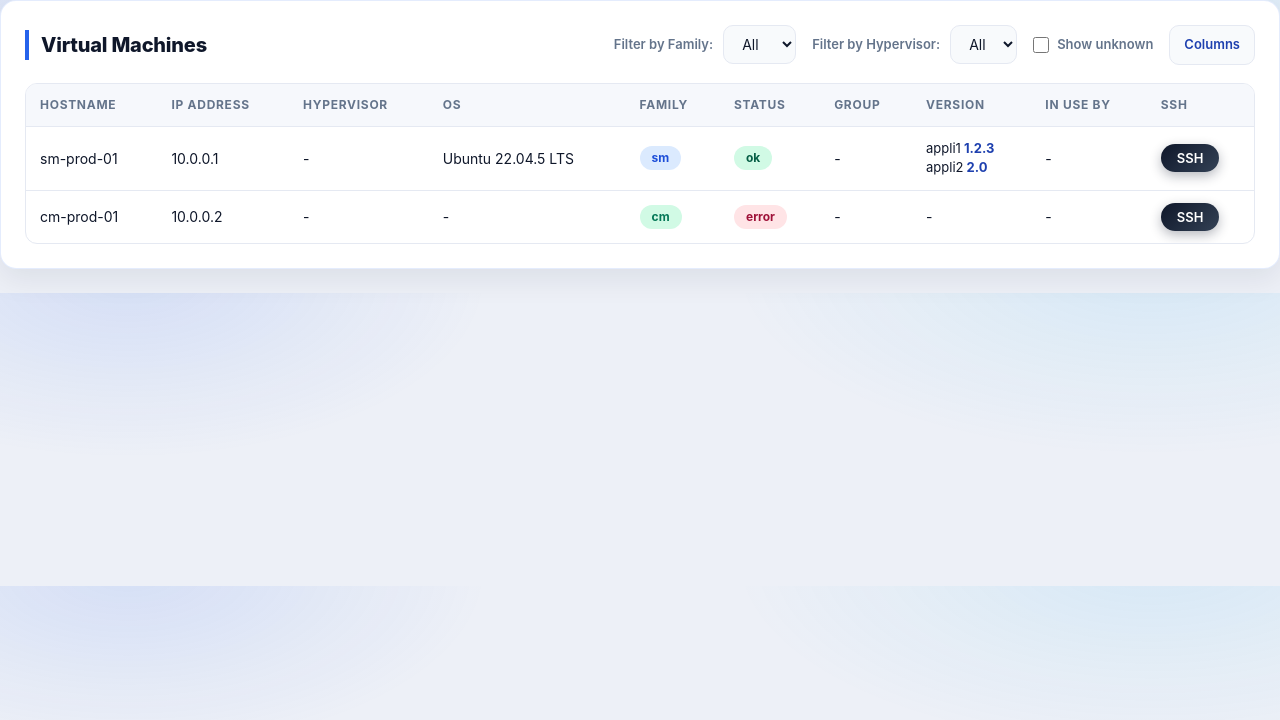
Test case: VMTable › affiche les VMs et filtre par famille
Expected: the text "sm-prod-01" is shown, [26,126,157,190]
Expected: the text "cm-prod-01" is shown, [26,190,157,242]
Select "SM" in the dropdown labelled "Filter by Family:" at coordinates (760, 45), box [723,25,796,64]
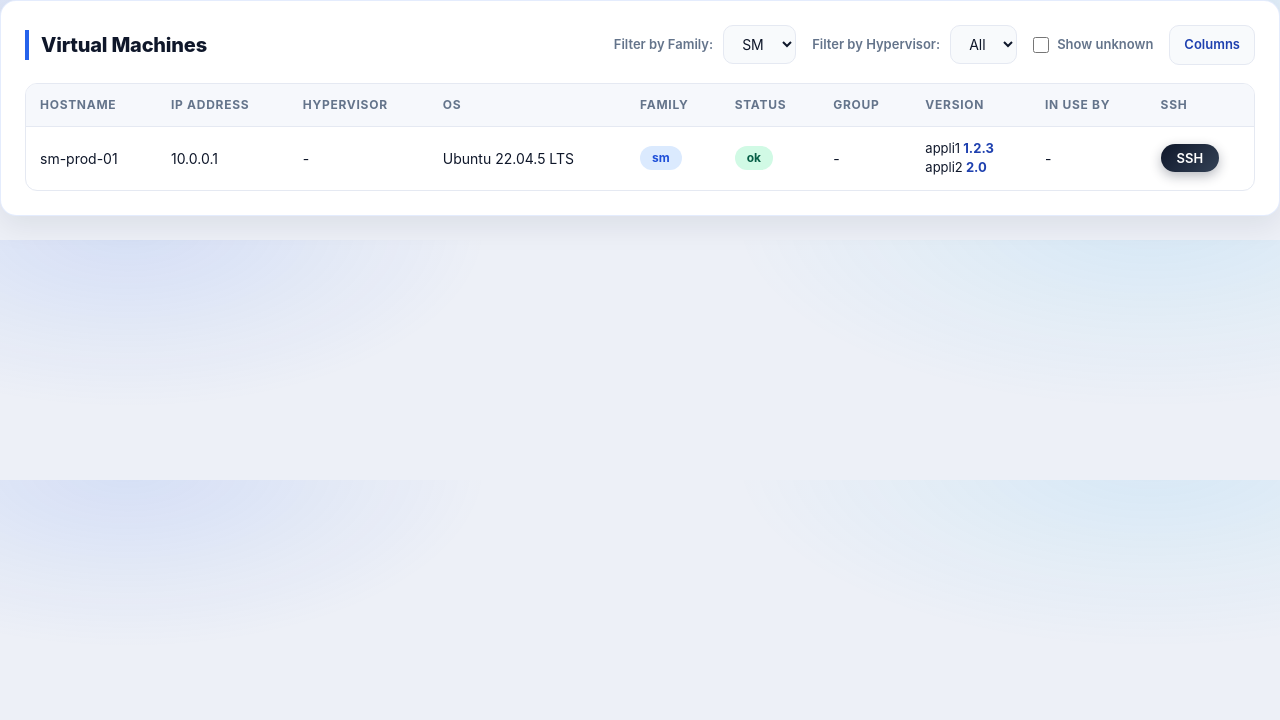
Expected: the text "sm-prod-01" is shown, [26,126,157,190]
Now the text "cm-prod-01" is gone
